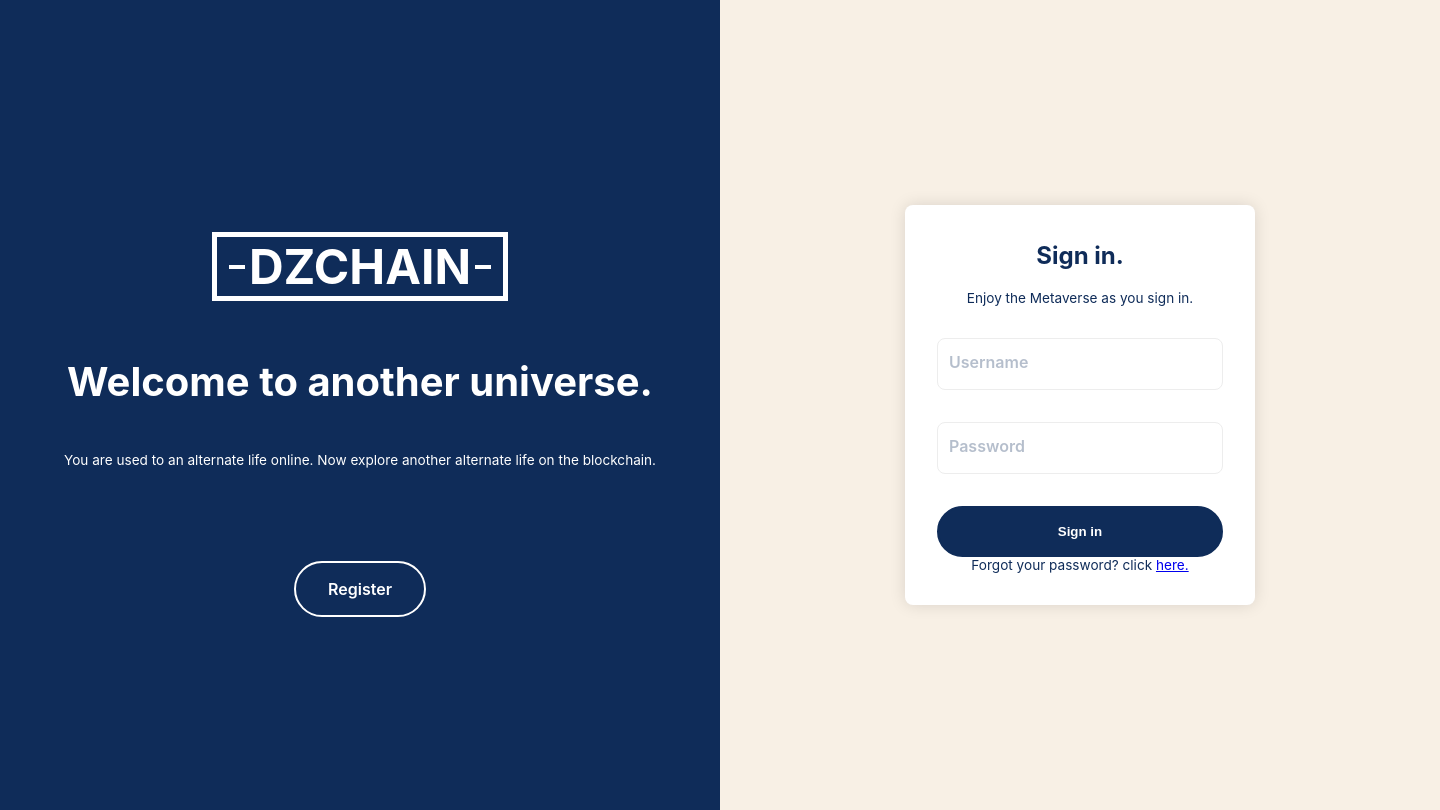
Test: SignIn Form › Validation › should say the username does not exist
In the field labelled "Username": (1080, 364) [937,338,1223,390], type "FakeUser"
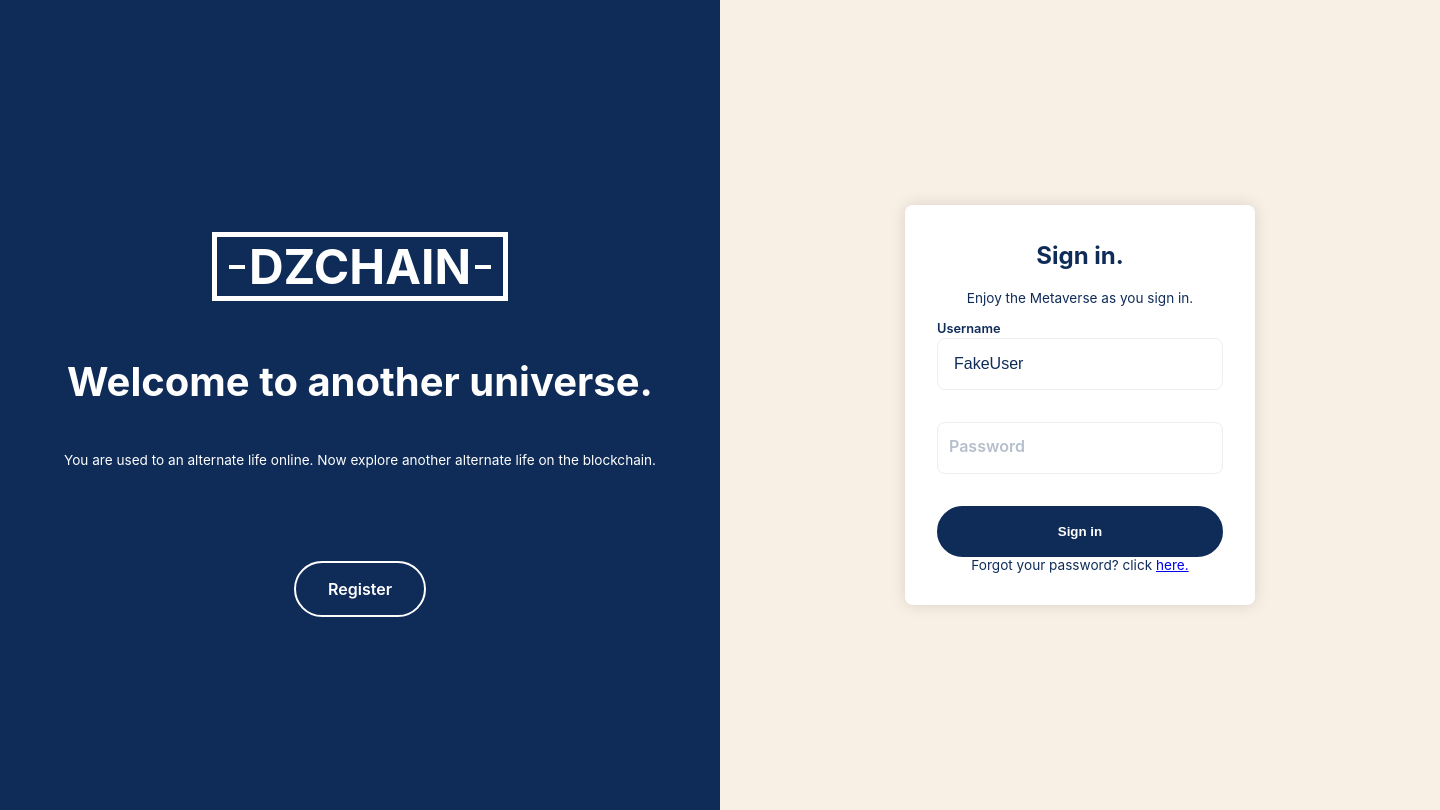
Submit the form from the heading "Sign in.", box [1036,241,1124,270]
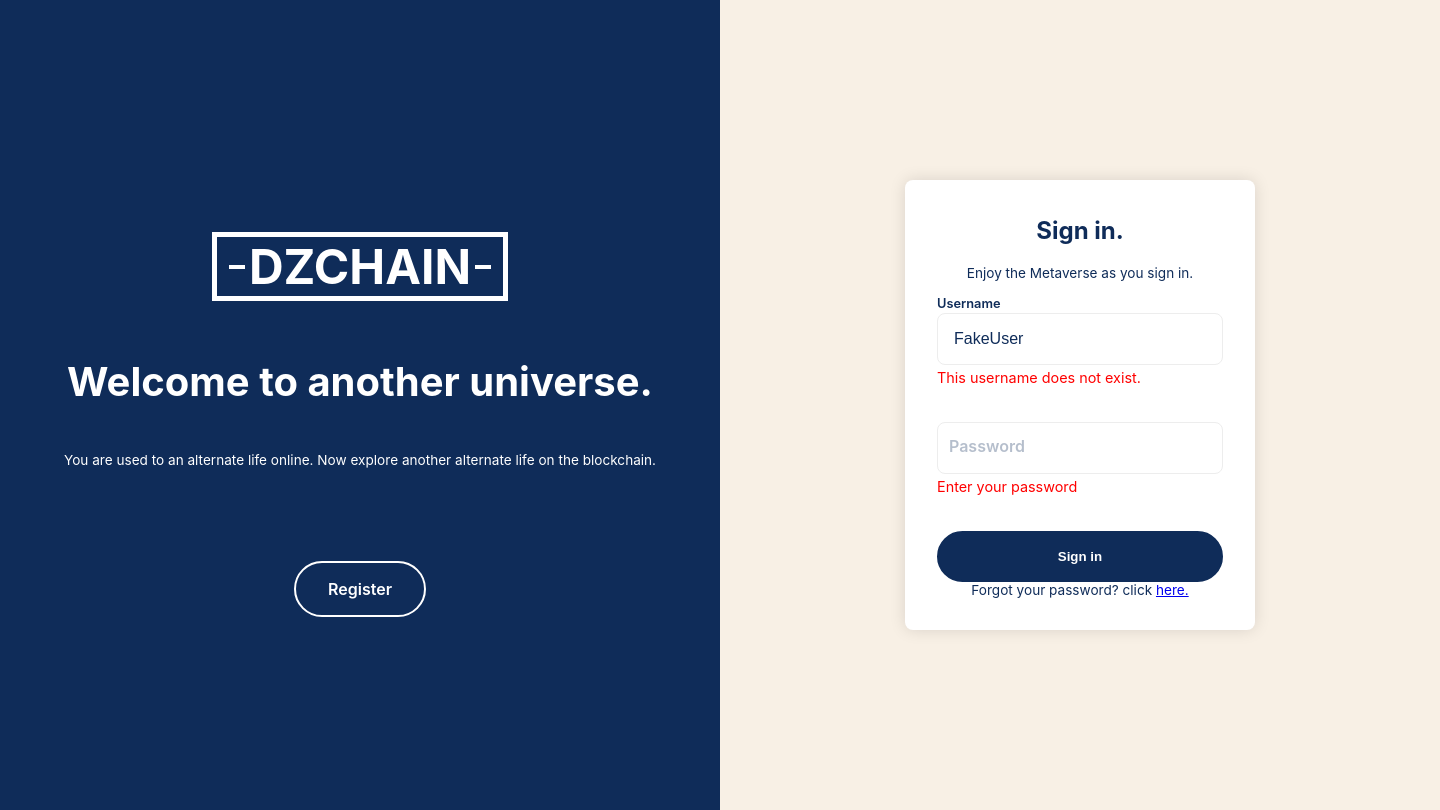
Result: the text "This username does not exist." is shown at [937,369,1141,386]
